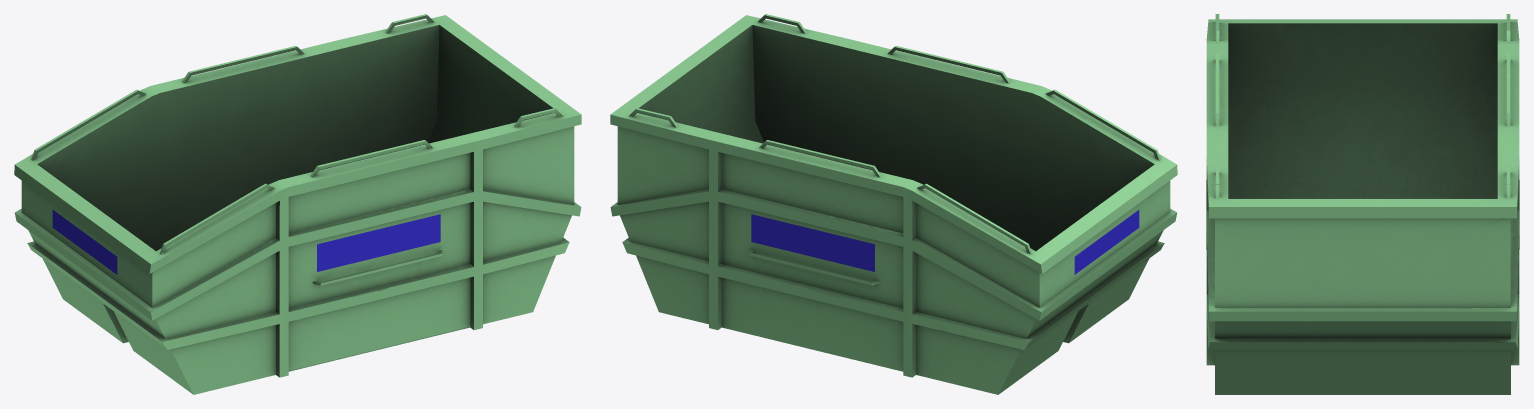
Rendered from Contianer1.FBX.
The picture shows the model from 3 angles, left to right: view 1: azimuth 30°, elevation 25°; view 2: azimuth 150°, elevation 25°; view 3: azimuth 270°, elevation 25°; orthographic projection. The views are drawn at different scales.
Visible parts, largest first — view 1: Container1, Stamp; view 2: Container1, Stamp; view 3: Container1.
Part boxes in pixels (box(x1,y1,x2,y2)): Container1: box(14, 14, 581, 394); Stamp: box(52, 210, 440, 274); Container1: box(610, 14, 1177, 394); Stamp: box(751, 210, 1139, 274); Container1: box(1206, 14, 1519, 394).
Bounding box in the file's own units: 150 × 65.57 × 83.43.
2 materials, 1 textured.
